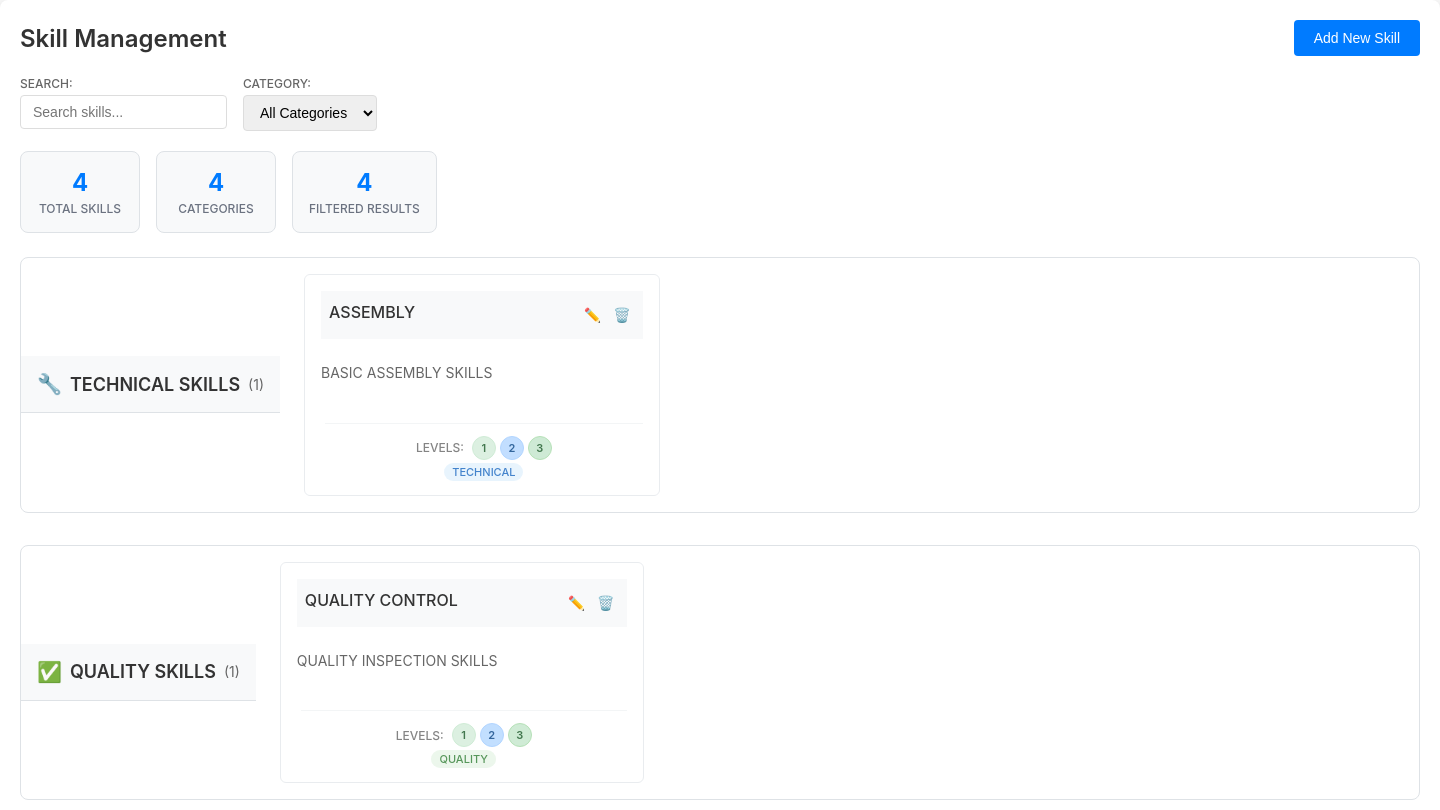
SkillManagement › opens create skill form
Click the button "Add New Skill" at [1357, 38], box [1294,20,1420,56]
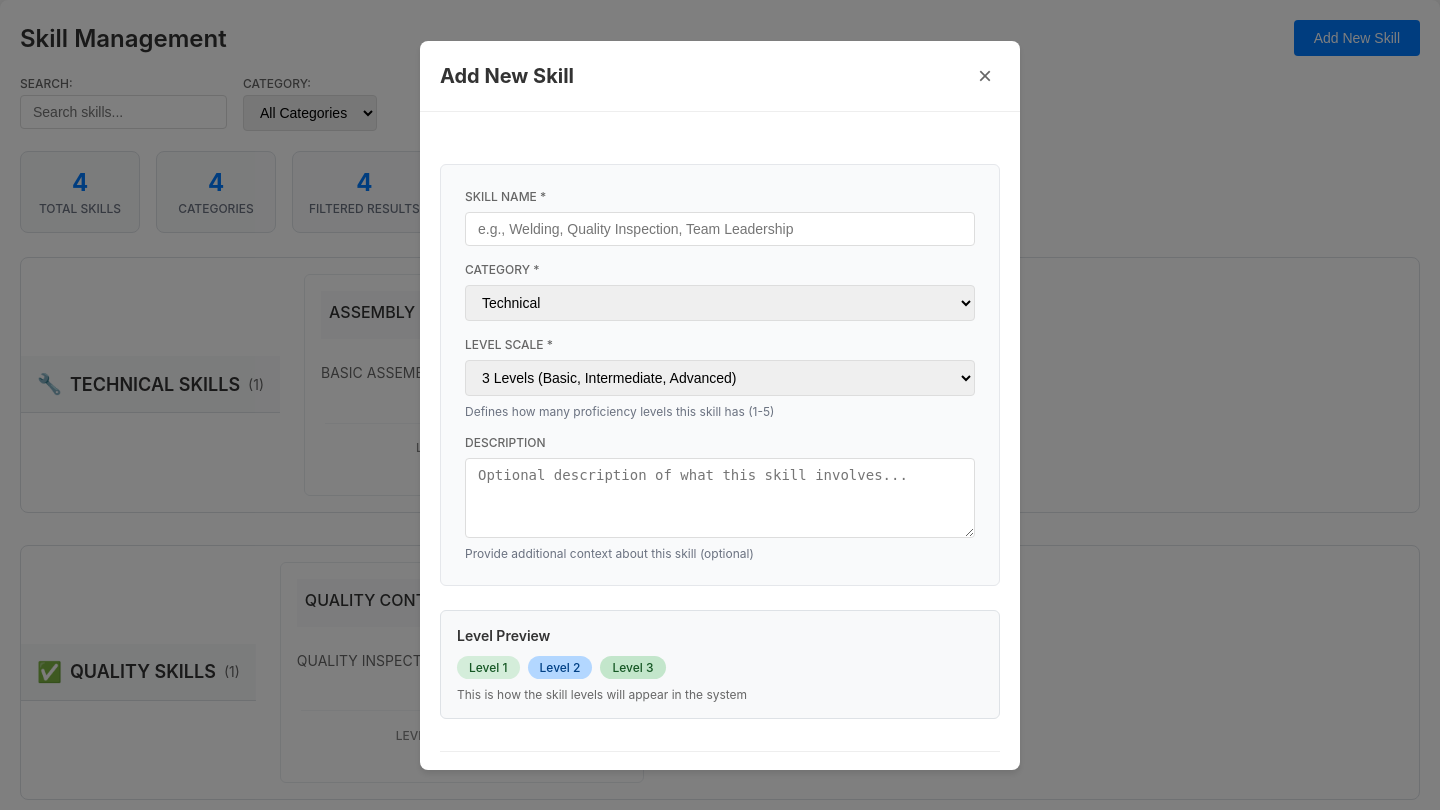
Check: the field labelled "Skill Name *" is shown, box [465,212,975,246]
Check: the dropdown labelled "Category *" is shown, box [465,284,975,320]
